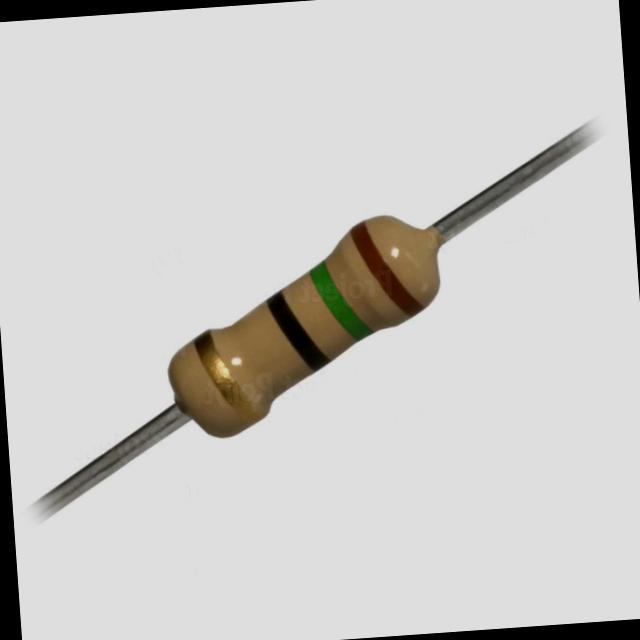Resistor: (132, 187, 472, 472)
